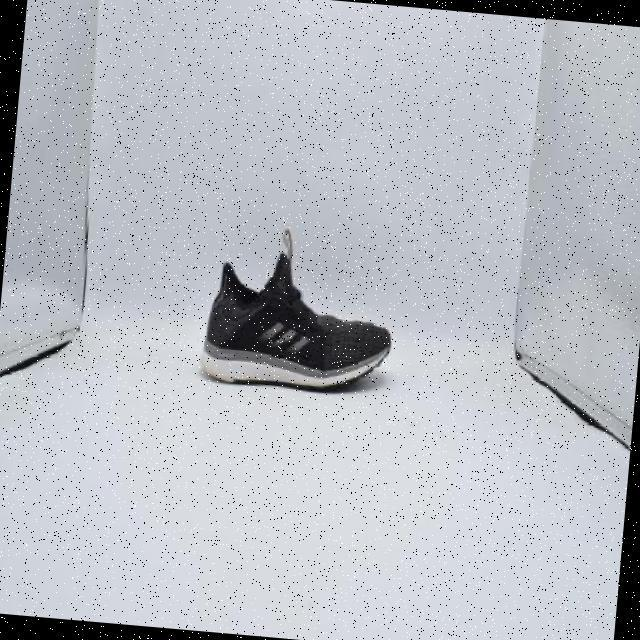Adidas: (258, 318, 320, 362)
